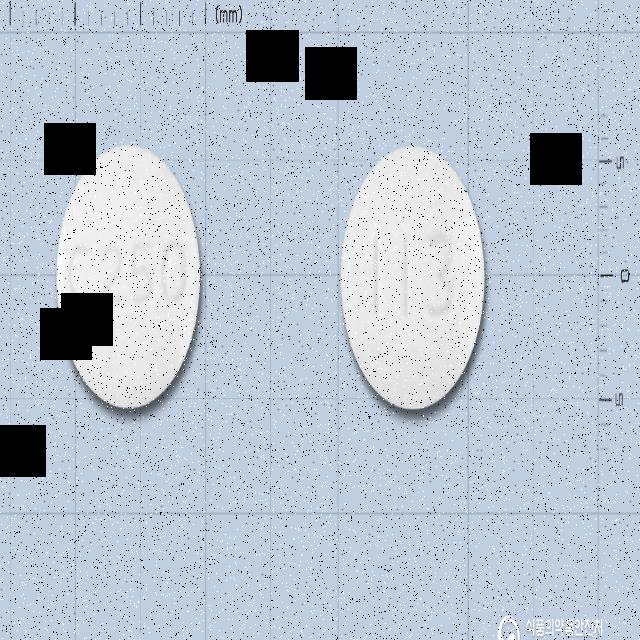Ciprofloxacin Hcl Tab- Ilyang: (335, 134, 493, 420), (56, 140, 207, 420)
